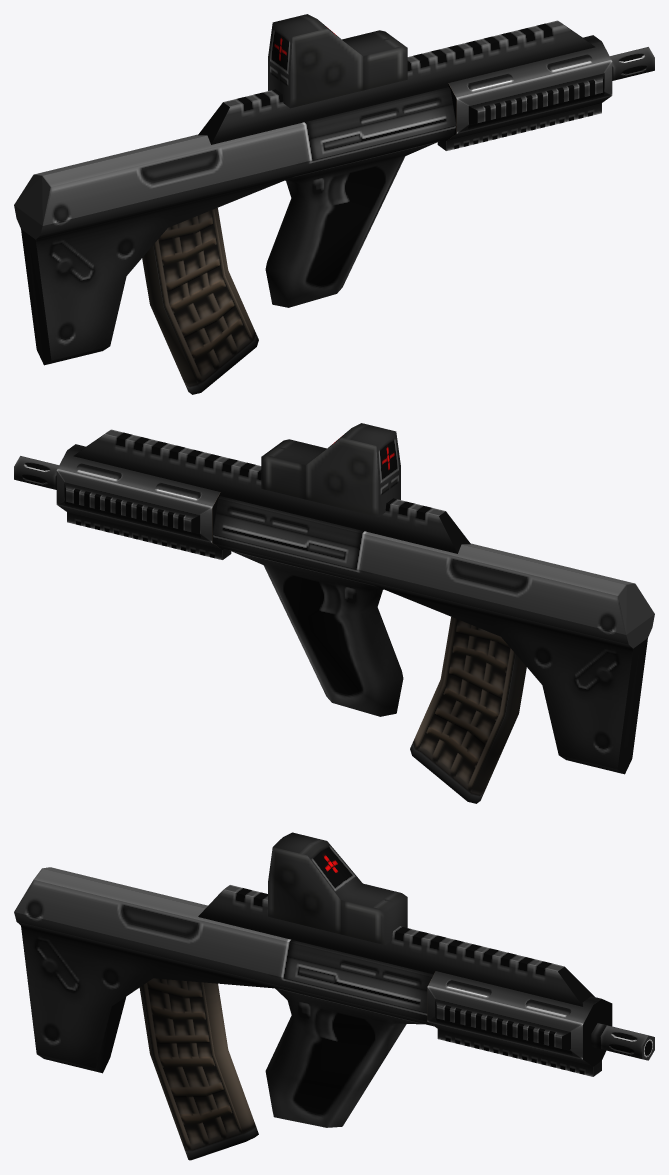
File: aug a3 lv2.FBX
3 views of the same model, one above another, from view 1: azimuth 30°, elevation 25°; view 2: azimuth 150°, elevation 25°; view 3: azimuth 330°, elevation 25° (orthographic).
Visible parts, largest first — view 1: Object134; view 2: Object134; view 3: Object134.
Boxes of the visible parts, <box> form: Object134: <box>14,14,654,394</box>; Object134: <box>14,423,654,803</box>; Object134: <box>14,832,654,1160</box>.
Bounding box in the file's own units: 74.85 × 39.61 × 8.53.
